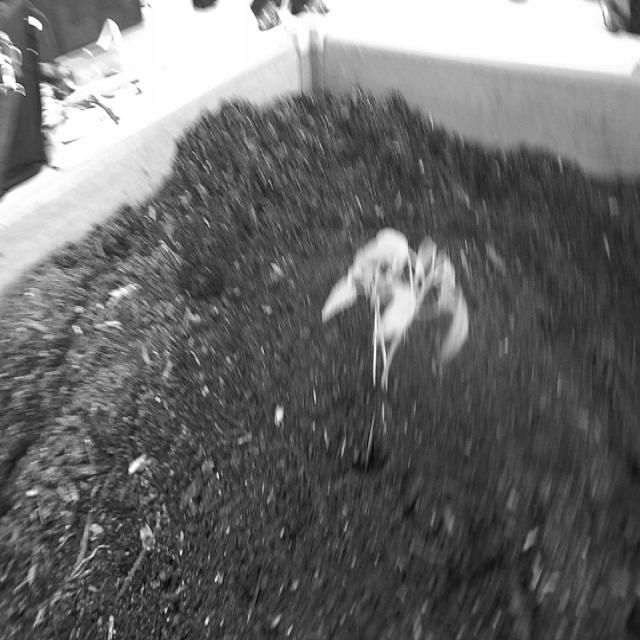Healthy: (317, 224, 473, 400)
